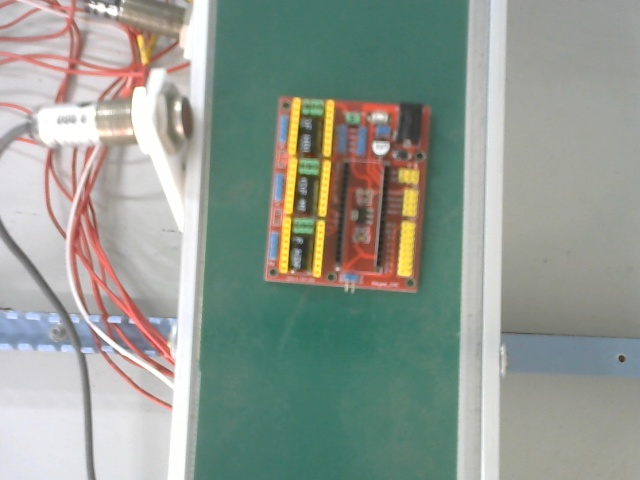IC: (349, 194, 377, 235)
capacitor: (290, 171, 317, 216), (295, 114, 320, 155), (286, 231, 307, 276), (369, 132, 395, 157)
connector: (395, 165, 422, 279), (395, 99, 429, 146)
